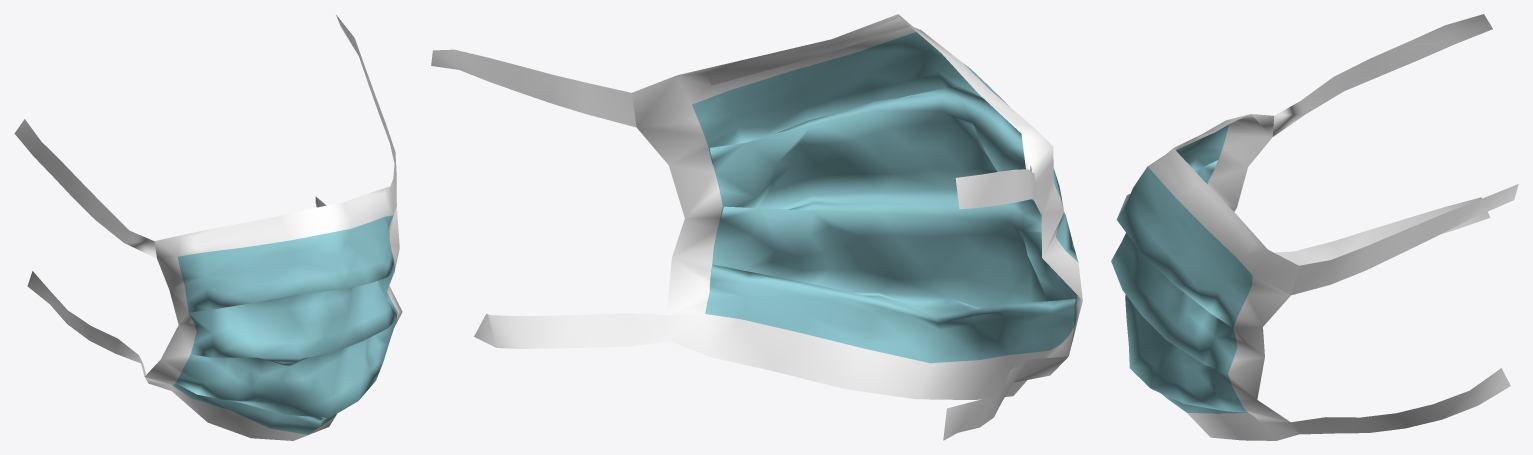
The picture shows the model from 3 angles, left to right: view 1: azimuth 30°, elevation 25°; view 2: azimuth 150°, elevation 25°; view 3: azimuth 270°, elevation 25°; orthographic projection. The views are drawn at different scales.
Parts seen in each view (by area): view 1: Object_3, Object_2; view 2: Object_3, Object_2; view 3: Object_2, Object_3.
Part boxes in pixels (left/top/right/bottom): Object_3: left=172, top=215, right=397, bottom=434; Object_2: left=14, top=15, right=402, bottom=440; Object_3: left=692, top=31, right=1078, bottom=363; Object_2: left=431, top=14, right=1082, bottom=440; Object_2: left=1147, top=14, right=1518, bottom=440; Object_3: left=1111, top=124, right=1252, bottom=413.
Bounding box in the file's own units: 1.46 × 1.18 × 1.31.
